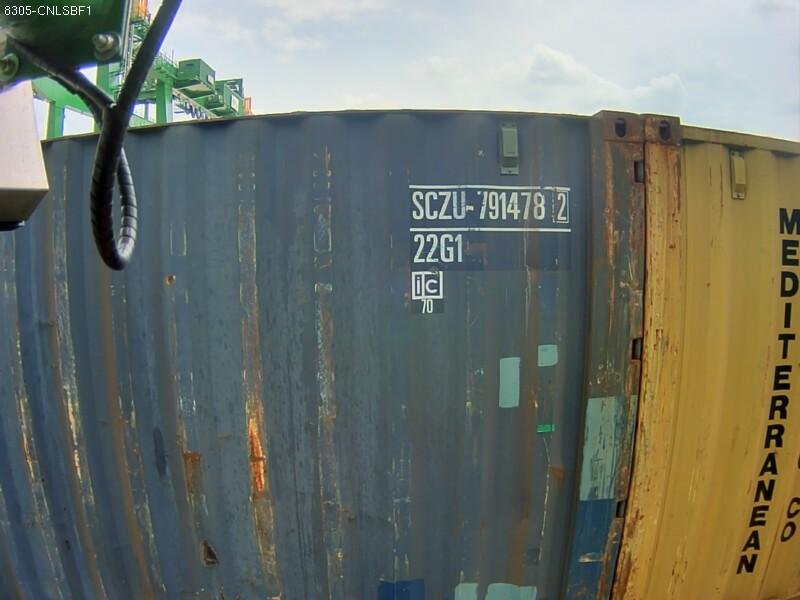container_no_door: (225, 106, 644, 531)
